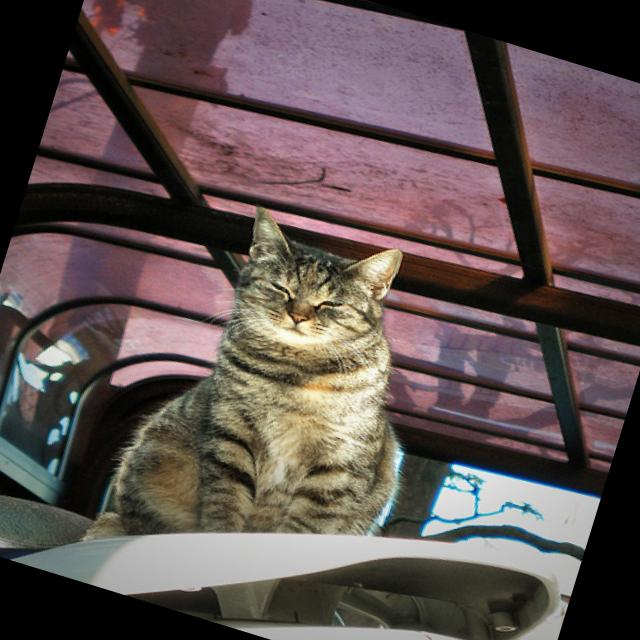Vehicle: (0, 384, 577, 640)
